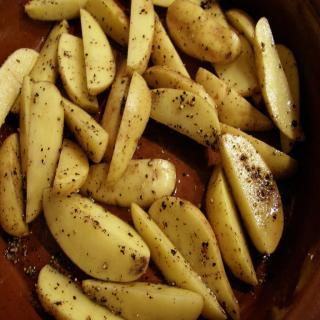Potato: (0, 0, 305, 320), (163, 0, 243, 70)
